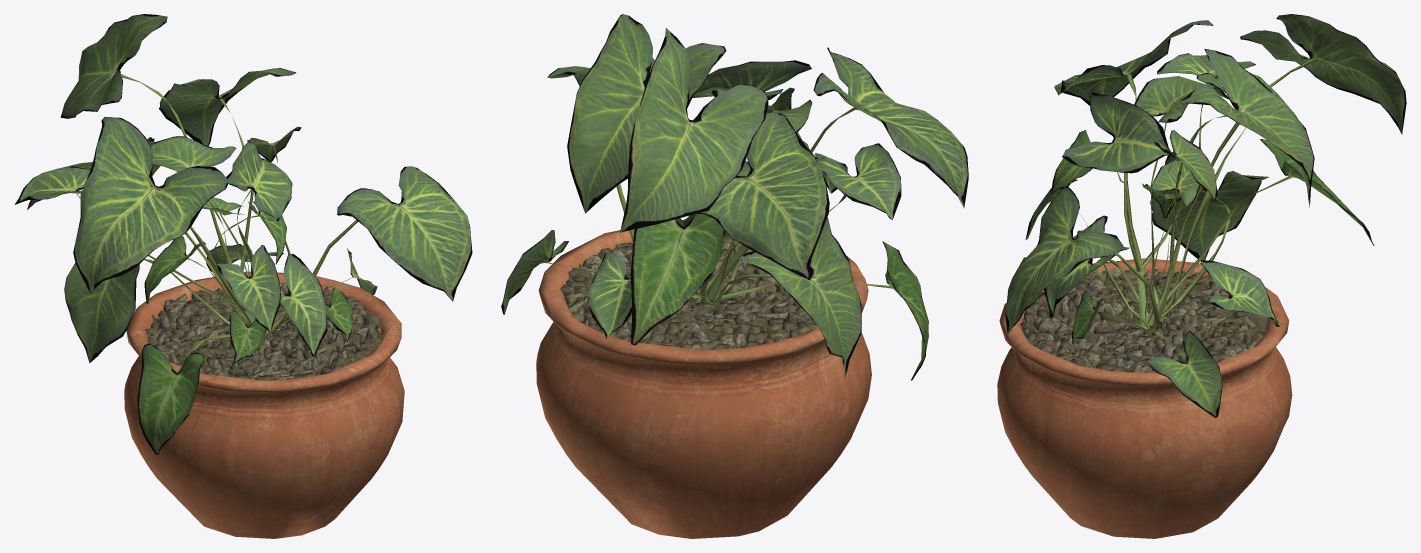
Rendered from potted_plant_02.glb.
The picture shows the model from 3 angles, left to right: view 1: azimuth 30°, elevation 25°; view 2: azimuth 150°, elevation 25°; view 3: azimuth 270°, elevation 25°; orthographic projection. The views are drawn at different scales.
Parts seen in each view (by area): view 1: potted_plant_02_leaves, potted_plant_02_pot, potted_plant_02_dirt; view 2: potted_plant_02_leaves, potted_plant_02_pot, potted_plant_02_dirt; view 3: potted_plant_02_leaves, potted_plant_02_pot, potted_plant_02_dirt.
Part boxes in pixels (<box>): potted_plant_02_leaves: <box>15,14,472,454</box>; potted_plant_02_pot: <box>124,271,404,538</box>; potted_plant_02_dirt: <box>145,283,383,380</box>; potted_plant_02_leaves: <box>501,14,968,380</box>; potted_plant_02_pot: <box>536,220,871,538</box>; potted_plant_02_dirt: <box>560,232,817,349</box>; potted_plant_02_leaves: <box>1005,14,1406,417</box>; potted_plant_02_pot: <box>997,258,1292,538</box>; potted_plant_02_dirt: <box>1020,268,1267,372</box>.
Bounding box in the file's own units: 0.7009 × 0.8395 × 0.6561.
2 materials, 2 textured.
